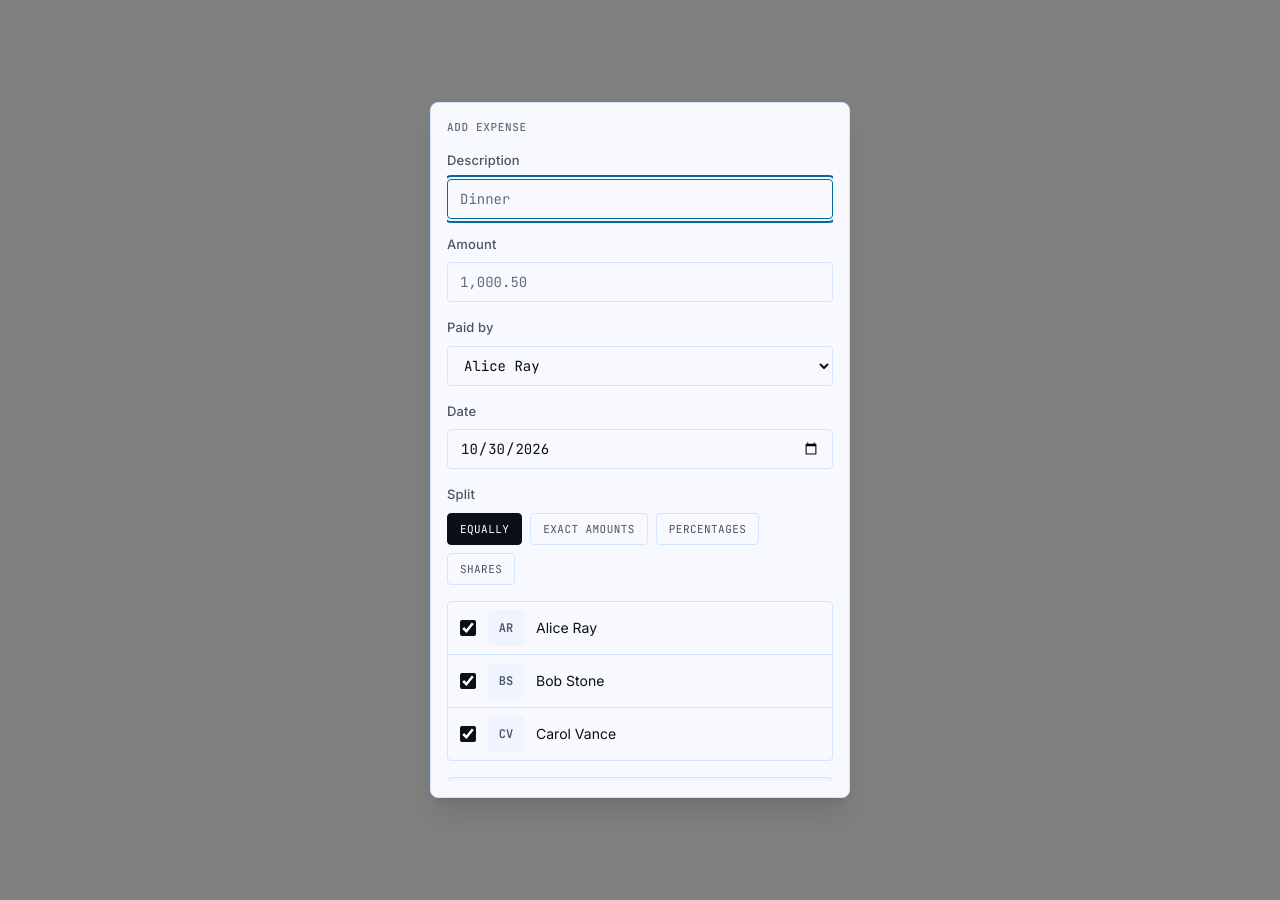
Test: ExpenseForm › says when somebody has to take the extra paisa
Type "Sweets" into the field labelled "Description" at (640, 199), box [447,179,833,219]
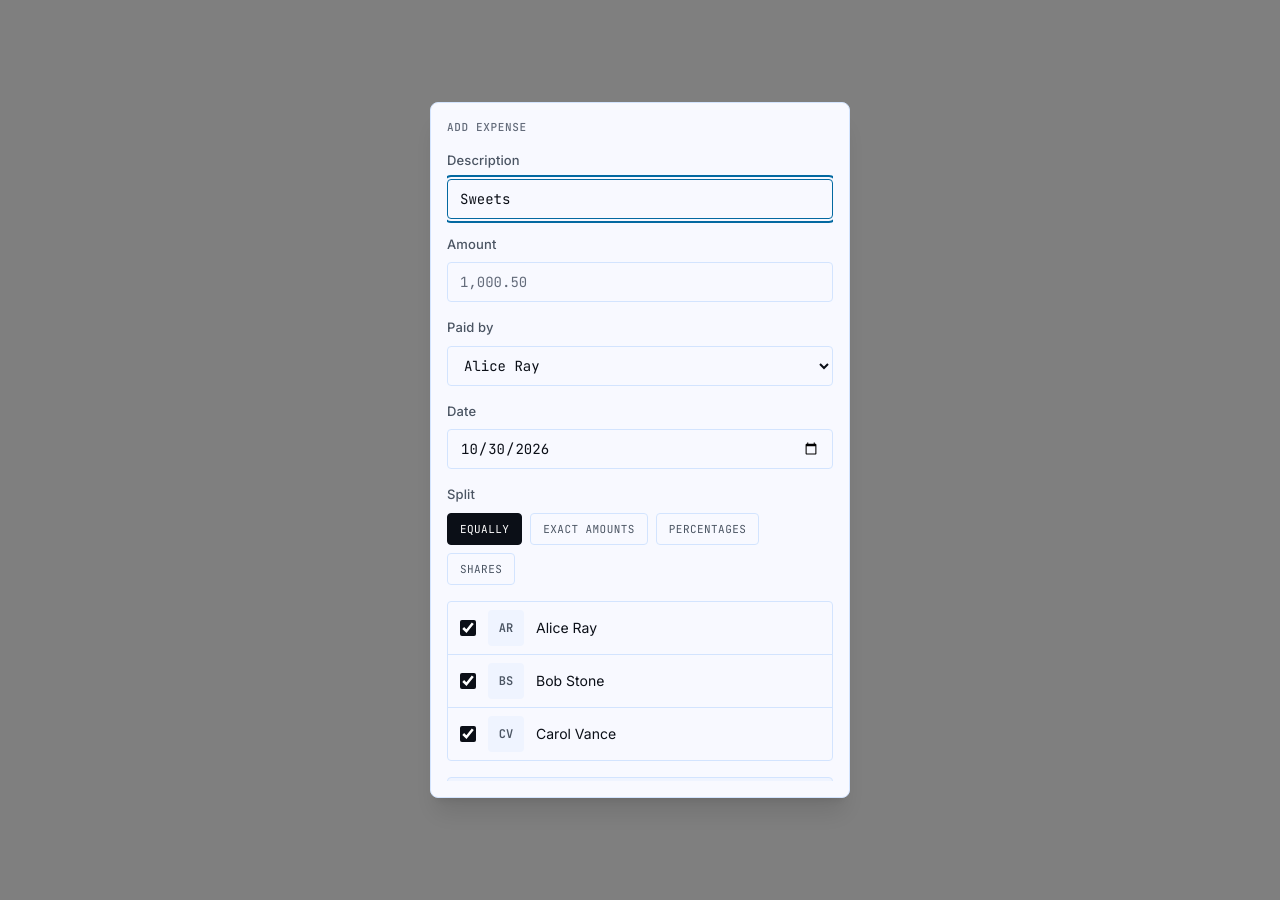
Type "0.10" into the field labelled "Amount" at (640, 282), box [447,262,833,302]
(page scrolled)
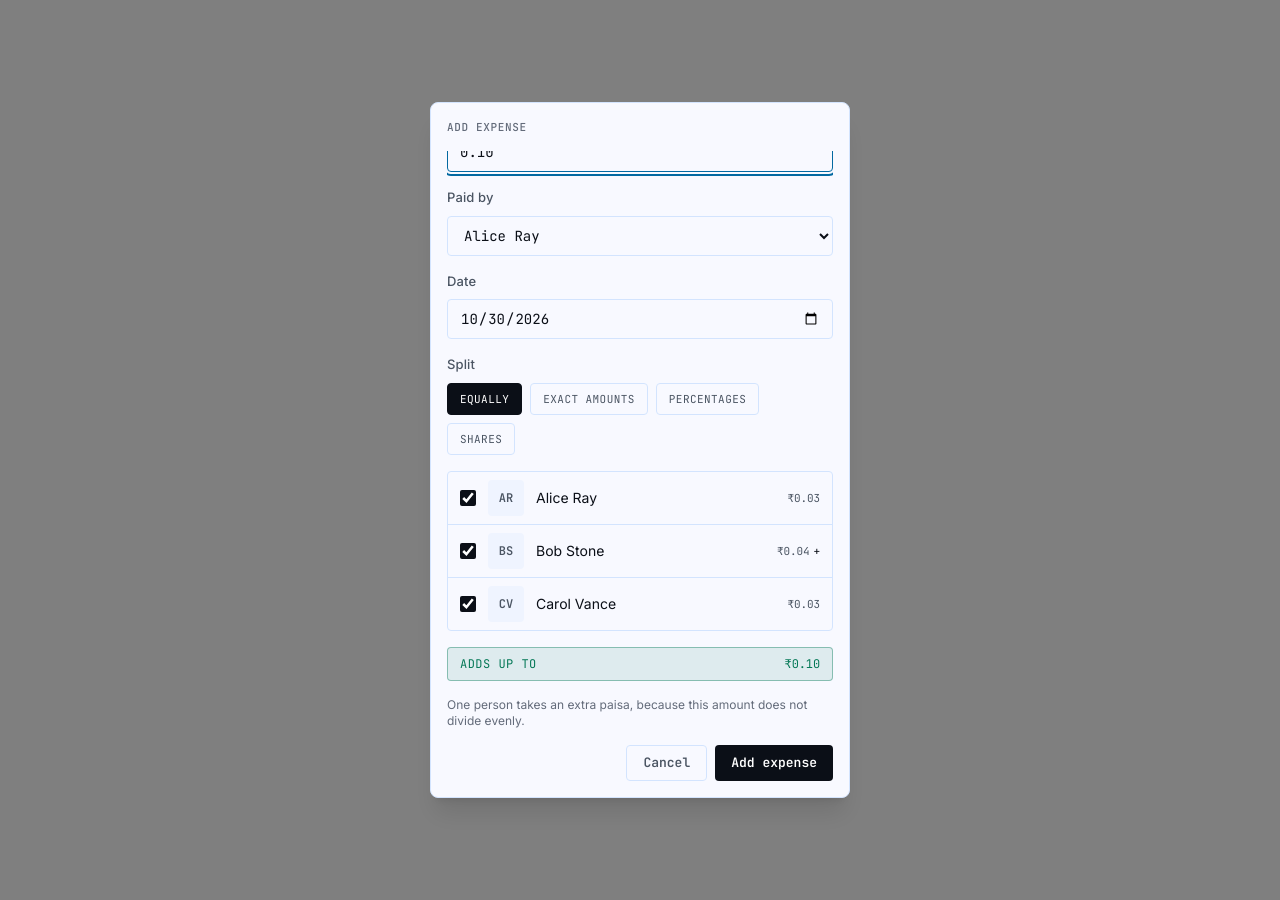
Expected: the button "Add expense" is enabled, [715,745,833,781]
